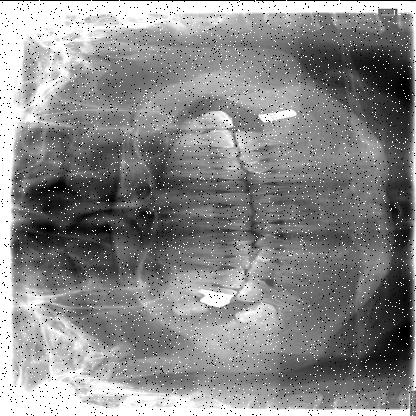ITI: (252, 105, 303, 123)
